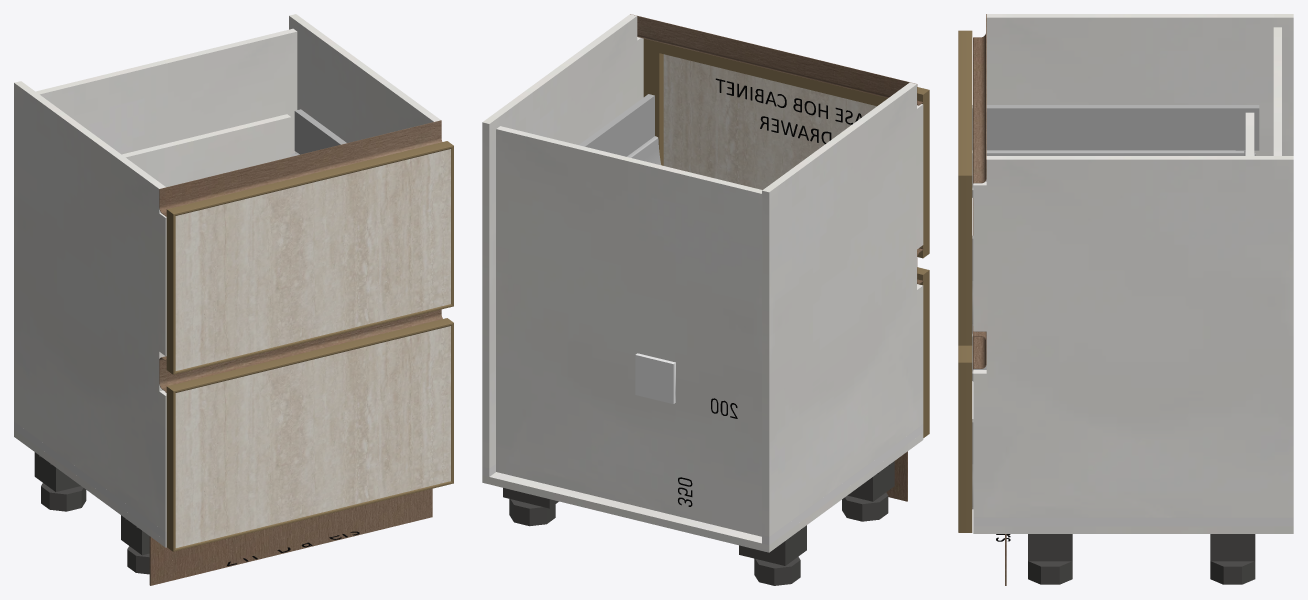
Rendered from BC-HO-CJ-ST-XXX-2HB-XXX-600-720-560-15.glb.
3 renders of one model, left to right at view 1: azimuth 30°, elevation 25°; view 2: azimuth 150°, elevation 25°; view 3: azimuth 270°, elevation 25°, orthographic. The views are drawn at different scales.
Parts seen in each view (by area): view 1: TP_node_4, Object_node, Object_node_1, TP, TP_node_5, Object_node_79, TP_node_2, ExtrSplGeo, ExtrSplGeo_node, Extrusion, Extrusion_node_2, Extrusion_node_1 (+9 smaller); view 2: TP, TP_node_4, Object_node_1, TP_node_5, ExtrSplGeo, TP_node_3, Extrusion_node_2, Object_node_55, casing, Extrusion_node_3, Object_node_59, 2D text (+8 smaller); view 3: TP_node_5, TP_node_4, Object_node_57, Object_node_61, TP_node_3, Extrusion_node, Extrusion_node_3, Extrusion_node_2, ExtrSplGeo, Shell_1_0_node, Plate_node, Plate_node_1 (+5 smaller).
Boxes of the visible parts, x1,y1,x2,y2 form: TP_node_4: (14,81,166,532); Object_node: (175,326,450,547); Object_node_1: (175,149,450,370); TP: (36,28,297,154); TP_node_5: (289,14,440,142); Object_node_79: (149,488,432,585); TP_node_2: (122,114,291,187); ExtrSplGeo: (159,120,442,216); ExtrSplGeo_node: (159,309,442,392); Extrusion: (167,318,453,392); Extrusion_node_2: (167,141,453,215); Extrusion_node_1: (166,386,175,551); TP: (496,126,762,536); TP_node_4: (762,82,923,536); Object_node_1: (663,54,876,189); TP_node_5: (482,14,643,468); ExtrSplGeo: (630,14,923,105); TP_node_3: (482,433,923,552); Extrusion_node_2: (649,40,928,105); Object_node_55: (579,94,654,156); casing: (635,353,675,403); Extrusion_node_3: (643,38,663,165); Object_node_59: (762,425,923,544); 2D text: (715,78,861,143); TP_node_5: (973,156,1293,517); TP_node_4: (986,14,1293,155); Object_node_57: (972,105,1259,150); Object_node_61: (973,518,1293,526); TP_node_3: (973,526,1293,533); Extrusion_node: (958,362,972,532); Extrusion_node_3: (958,175,972,345); Extrusion_node_2: (958,30,972,175); ExtrSplGeo: (973,14,986,183); Shell_1_0_node: (972,150,1245,197); Plate_node: (1210,534,1255,561); Plate_node_1: (1028,534,1072,561).
Size of what is drawn, in the model's own units: 0.6 by 0.82 by 0.5842.
Materials: 11 (3 with a texture image).
